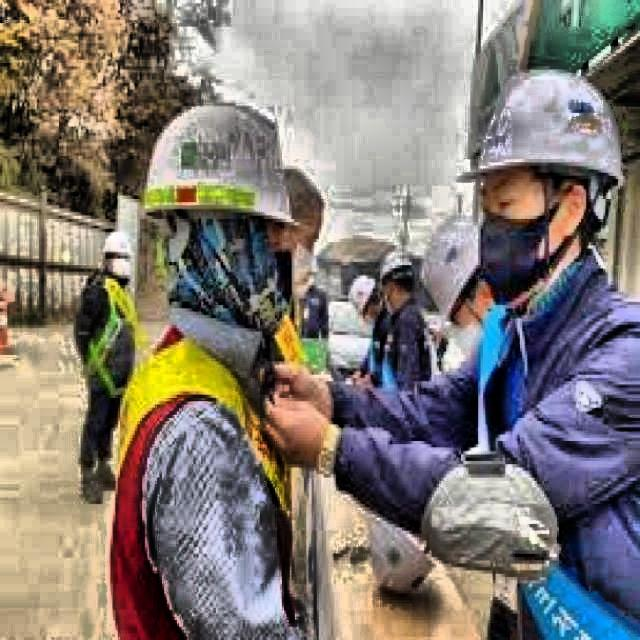bull_dozer/loader/grader: (320, 184, 432, 248)
person: (263, 67, 640, 640), (109, 101, 298, 640), (71, 231, 135, 507), (420, 216, 494, 386), (380, 249, 432, 390), (276, 166, 324, 304), (349, 272, 394, 392), (303, 254, 332, 340)
